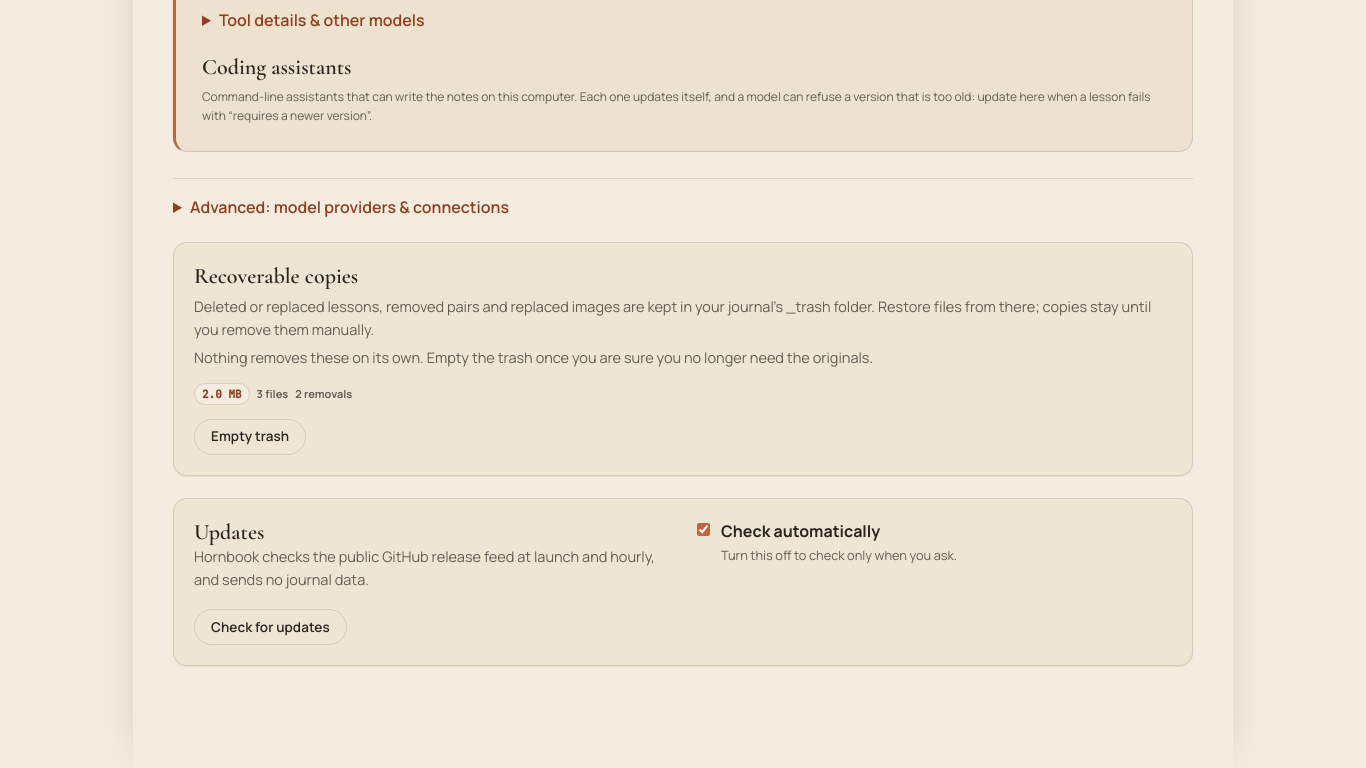
Test: AppSettingsComponent › keeps the retained copies when the confirmation is declined
Step 1. Click the button "Empty trash" → (250, 437), box [194, 419, 306, 455]
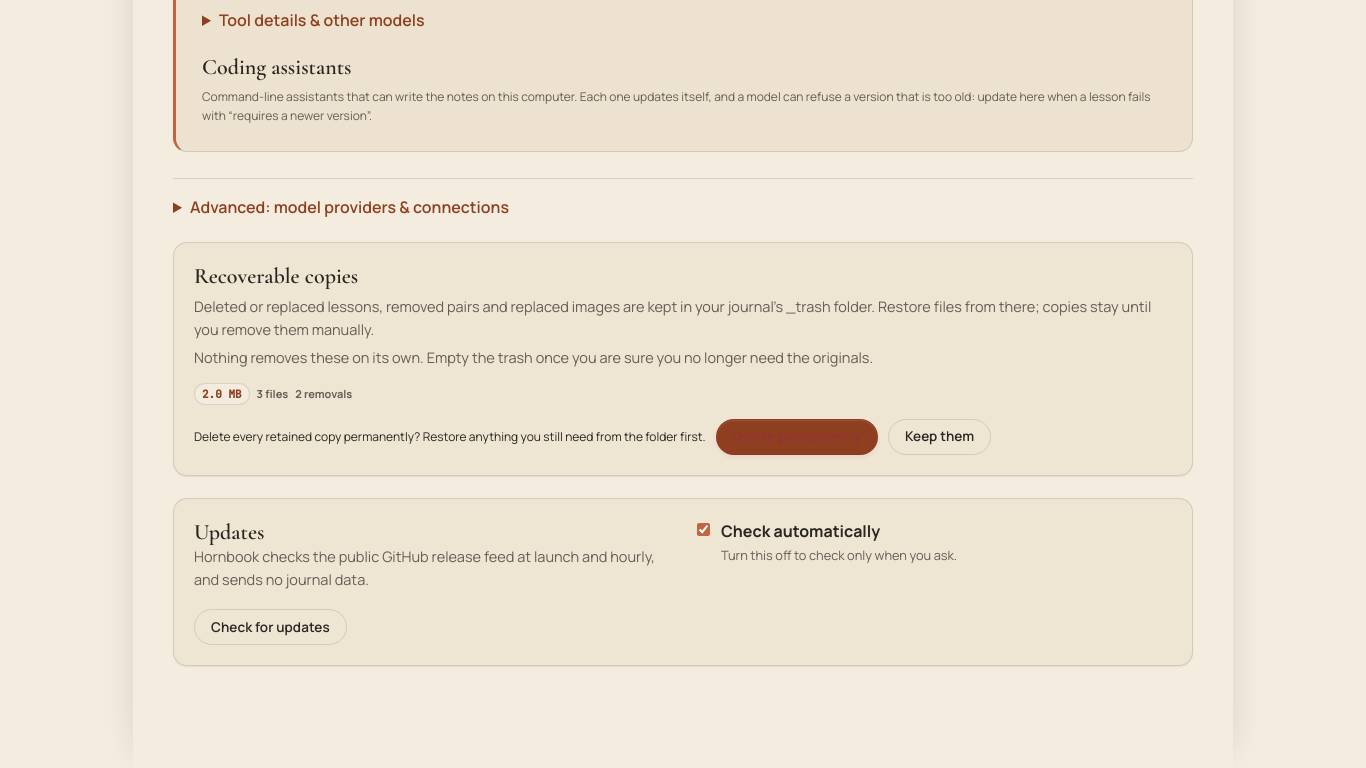
Step 2. Click the button "Keep them" → (940, 437), box [888, 419, 991, 455]
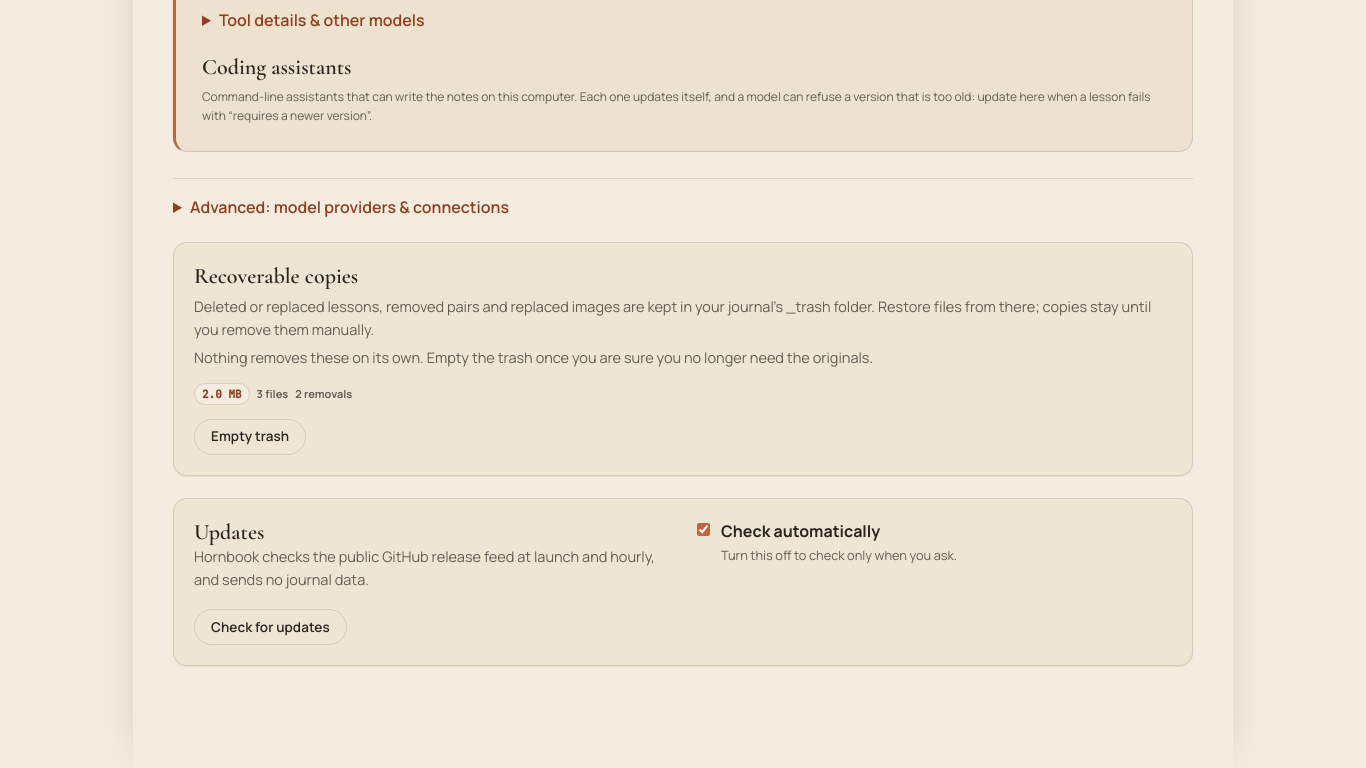
Expected: the element with class "il-trash-stats" shows "3 files", [257, 386, 288, 401]
Result: the button "Empty trash" is shown at [194, 419, 306, 455]
